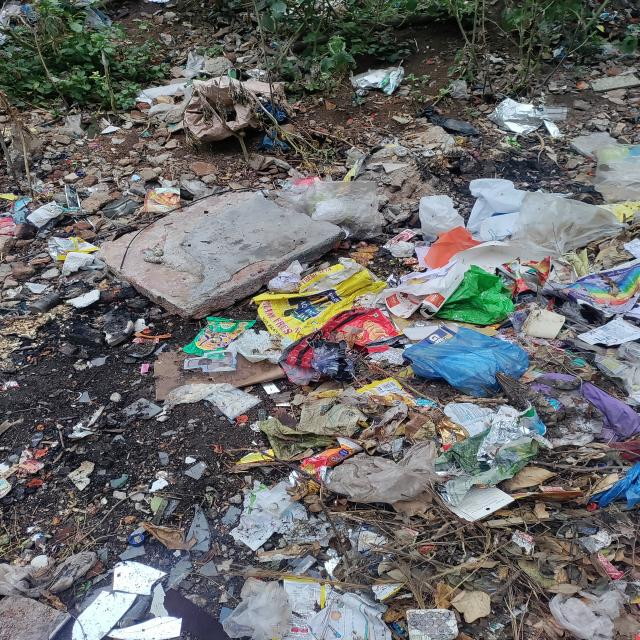dry: (256, 266, 374, 329), (508, 195, 628, 250), (424, 328, 523, 390), (492, 94, 561, 142), (285, 332, 347, 384), (440, 478, 512, 517), (483, 422, 545, 462), (186, 319, 250, 357), (344, 66, 419, 94), (580, 316, 640, 346), (305, 195, 356, 228), (138, 184, 186, 216), (429, 416, 470, 448), (526, 304, 561, 340)
